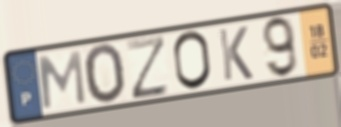9: (260, 15, 300, 80)
K: (216, 25, 256, 84)
M: (36, 48, 88, 111)
O: (82, 42, 129, 107), (171, 29, 214, 92)
Z: (124, 33, 172, 102)
